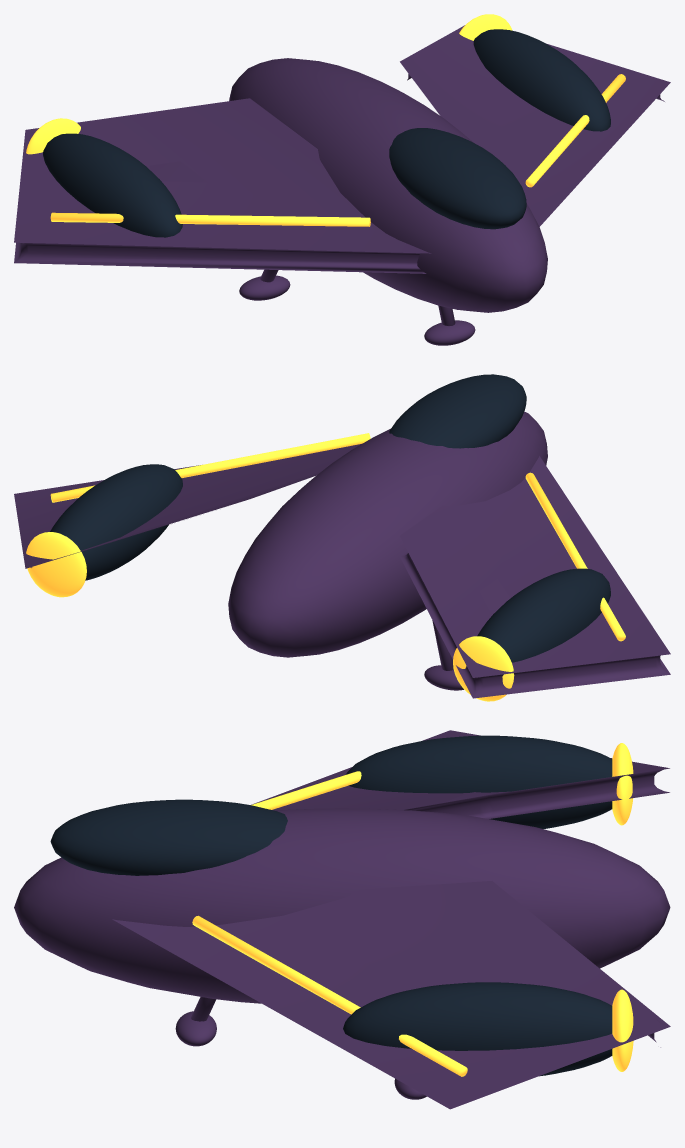
The model's file is Alien-1.glb.
3 renders of one model, top to bottom at view 1: azimuth 30°, elevation 25°; view 2: azimuth 150°, elevation 25°; view 3: azimuth 270°, elevation 25°, orthographic. The views are drawn at different scales.
Parts seen in each view (by area): view 1: Obsidian Violet, Window Graphite, Plasma Amber; view 2: Obsidian Violet, Window Graphite, Plasma Amber; view 3: Obsidian Violet, Window Graphite, Plasma Amber.
Boxes of the visible parts, x1,y1,x2,y2 form: Obsidian Violet: (14, 25, 670, 345); Window Graphite: (43, 29, 610, 237); Plasma Amber: (26, 14, 625, 226); Obsidian Violet: (14, 411, 670, 698); Window Graphite: (50, 374, 610, 662); Plasma Amber: (26, 433, 625, 701); Obsidian Violet: (14, 730, 670, 1109); Window Graphite: (50, 735, 612, 1076); Plasma Amber: (192, 743, 633, 1076).
Bounding box in the file's own units: 73.81 × 21 × 54.04.
